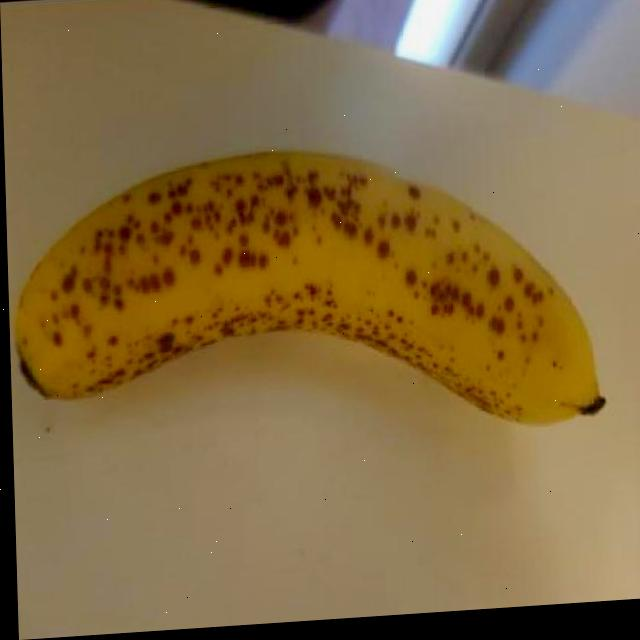banana: (5, 125, 607, 466)
